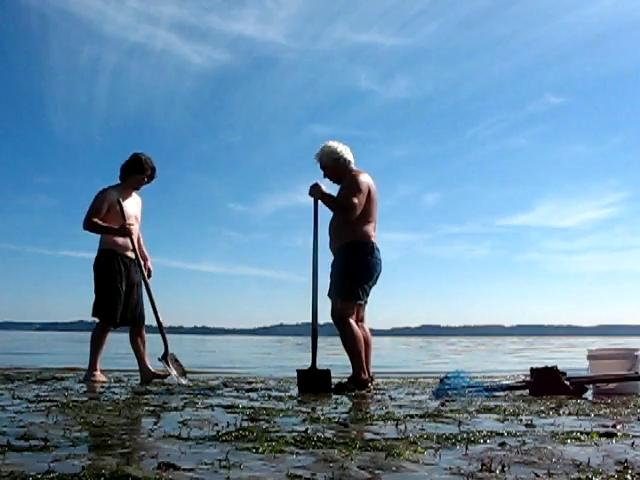victim: (80, 149, 178, 387), (300, 137, 388, 396)
